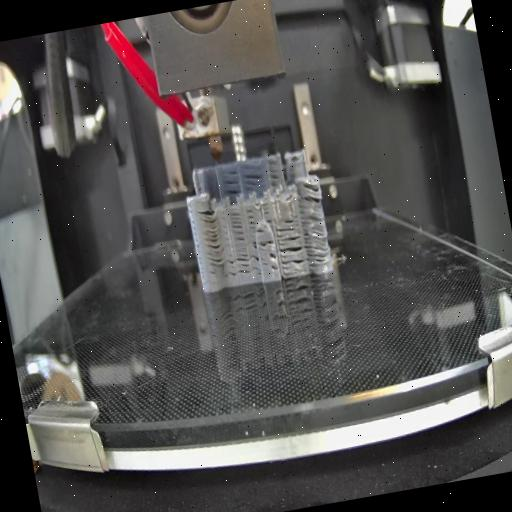cracks: (298, 214, 331, 268), (198, 206, 224, 270), (276, 234, 305, 272), (298, 182, 324, 208), (221, 167, 241, 198), (229, 210, 246, 244), (240, 169, 264, 193), (248, 238, 261, 274), (234, 250, 252, 276), (274, 219, 296, 236), (266, 166, 280, 188), (245, 206, 257, 230), (260, 203, 274, 223), (226, 254, 237, 277), (256, 238, 274, 250), (268, 252, 278, 270), (254, 228, 266, 234)
